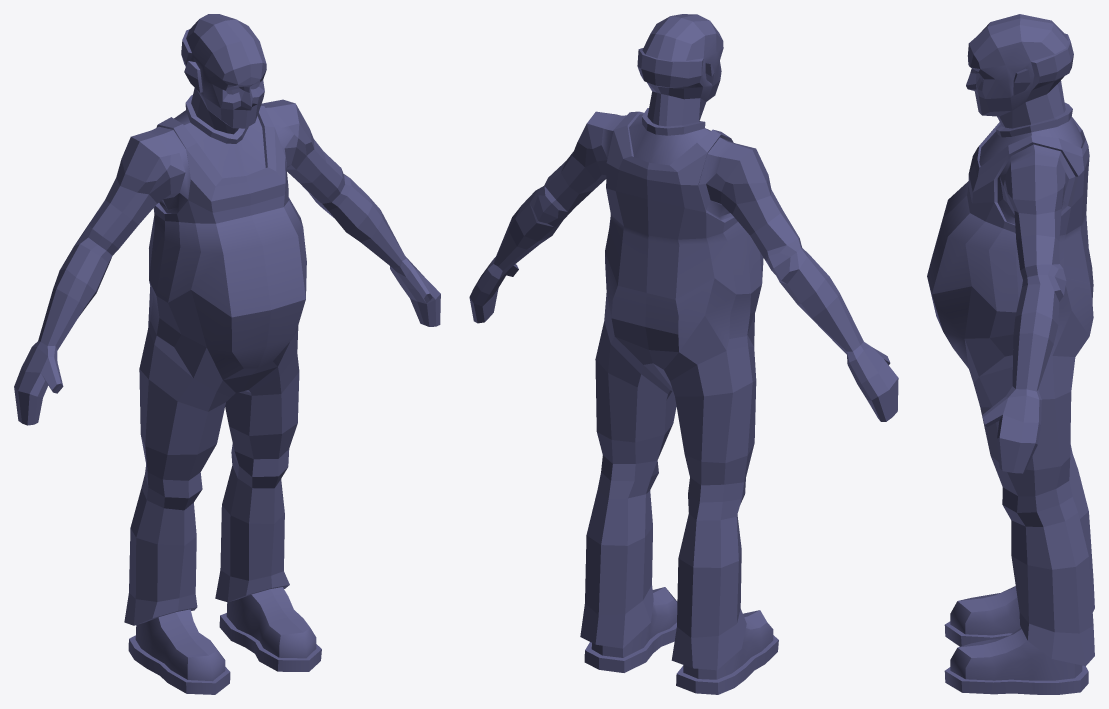
The model's file is Father (2).fbx.
3 renders of one model, left to right at view 1: azimuth 30°, elevation 25°; view 2: azimuth 150°, elevation 25°; view 3: azimuth 270°, elevation 25°, orthographic.
Visible parts, largest first — view 1: Father; view 2: Father; view 3: Father.
Boxes of the visible parts, x1,y1,x2,y2 form: Father: [14, 14, 440, 694]; Father: [469, 14, 898, 694]; Father: [927, 14, 1094, 694].
Size of the model in its own units: 126 by 185 by 43.82.
